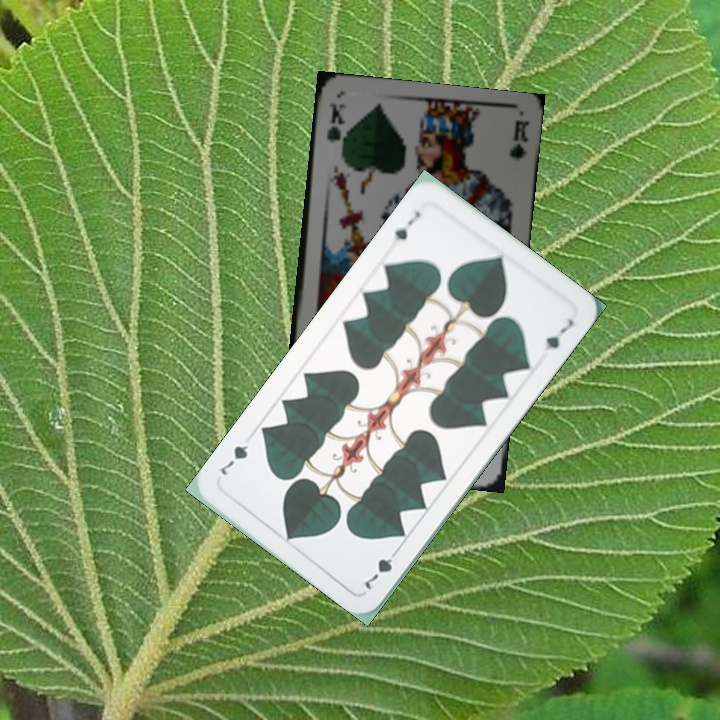G7: (361, 543, 403, 592), (390, 207, 423, 244)
GK: (322, 99, 348, 145)
